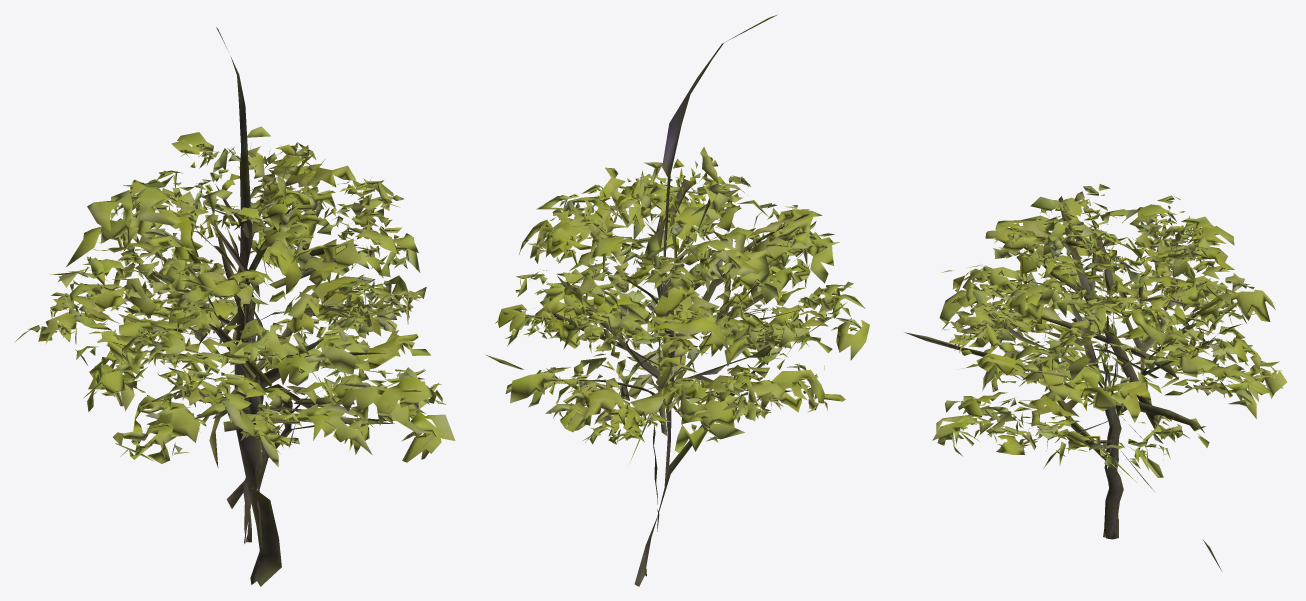
File: tree_03_spring_lime.glb
3 renders of one model, left to right at view 1: azimuth 30°, elevation 25°; view 2: azimuth 150°, elevation 25°; view 3: azimuth 270°, elevation 25°, orthographic. The views are drawn at different scales.
Visible parts, largest first — view 1: geometry_0; view 2: geometry_0; view 3: geometry_0.
Part boxes in pixels (<box>): geometry_0: <box>14,27,455,586</box>; geometry_0: <box>485,14,869,586</box>; geometry_0: <box>904,184,1287,570</box>.
Size of the model in its own units: 0.5788 by 1 by 0.6713.
1 material, 1 textured.
